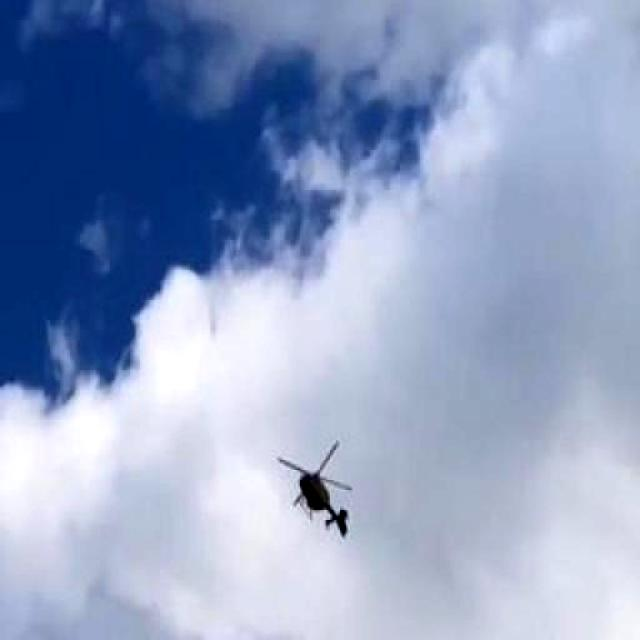drone: (248, 406, 384, 572)
